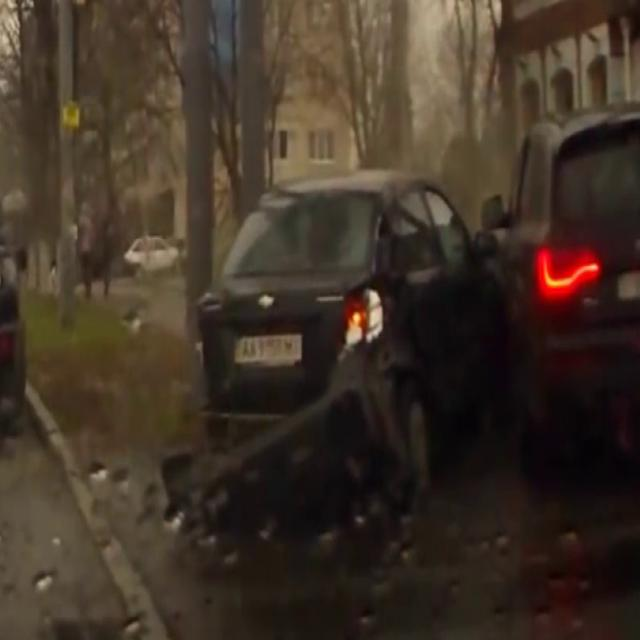accident: (212, 136, 640, 505)
